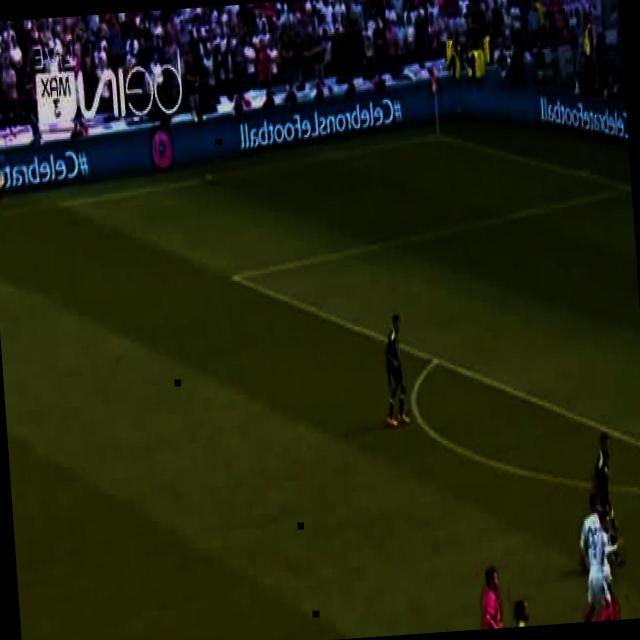player-white: (572, 509, 626, 623), (576, 492, 620, 622), (592, 431, 624, 564), (379, 313, 411, 432), (474, 564, 507, 630), (497, 596, 543, 628)
